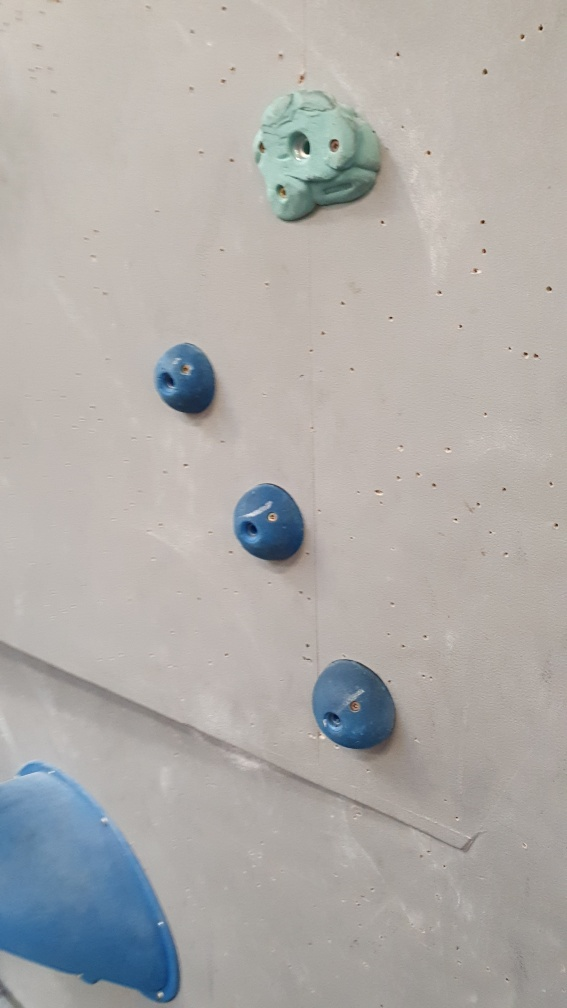Sloper: (311, 657, 399, 749), (233, 483, 307, 562), (155, 342, 219, 417)
